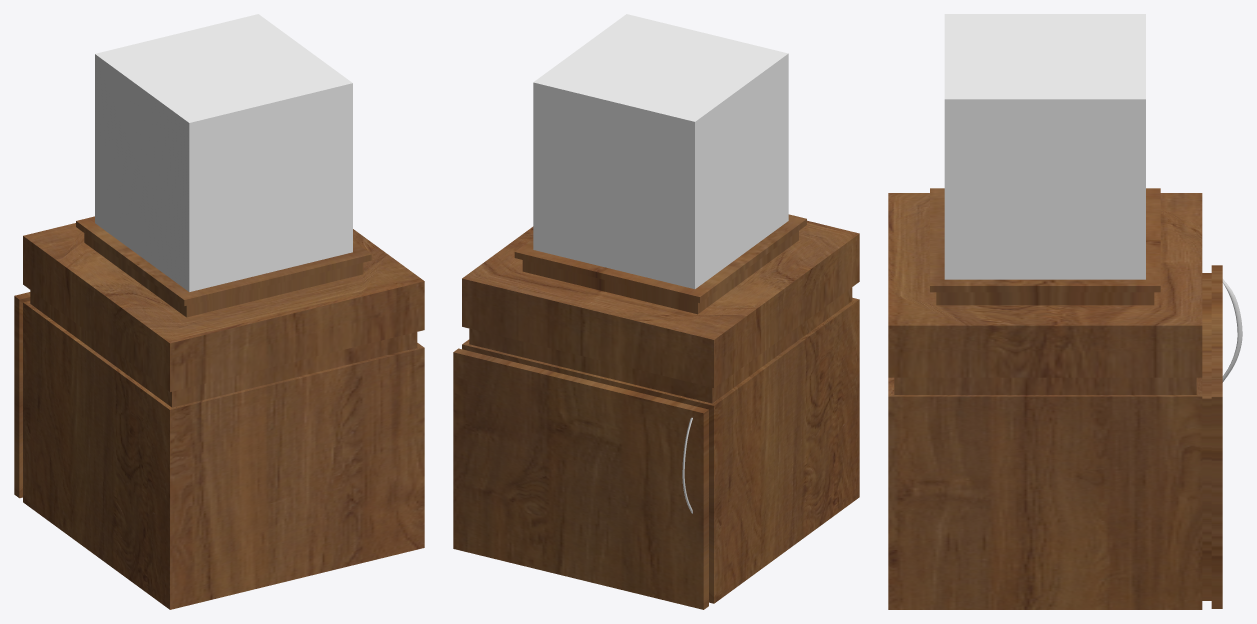
Rendered from gabinete.fbx.
3 renders of one model, left to right at view 1: azimuth 30°, elevation 25°; view 2: azimuth 150°, elevation 25°; view 3: azimuth 270°, elevation 25°, orthographic. The views are drawn at different scales.
Parts seen in each view (by area): view 1: Cube, Cube.001; view 2: Cube, Cube.001; view 3: Cube, Cube.001, BezierCurve.
Boxes of the visible parts, x1,y1,x2,y2 form: Cube: (14, 216, 424, 609); Cube.001: (95, 14, 352, 291); Cube: (453, 214, 859, 609); Cube.001: (533, 14, 788, 289); Cube: (888, 188, 1222, 609); Cube.001: (944, 14, 1145, 279); BezierCurve: (1222, 279, 1242, 382).
Size of what is drawn, in the model's own units: 396 by 679 by 447.
